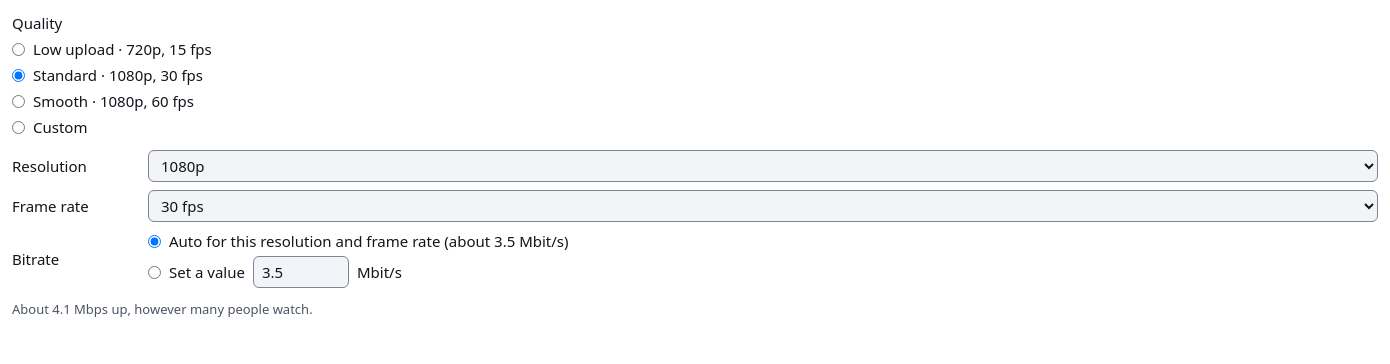
quality controls › warns for 4K and 60 fps when the cap allows them
This screenshot has width=1390, height=364.
Select "2160p (4K)" in the dropdown labelled "Resolution" at (763,166), box top-left (148, 150), bottom-right (1378, 182)
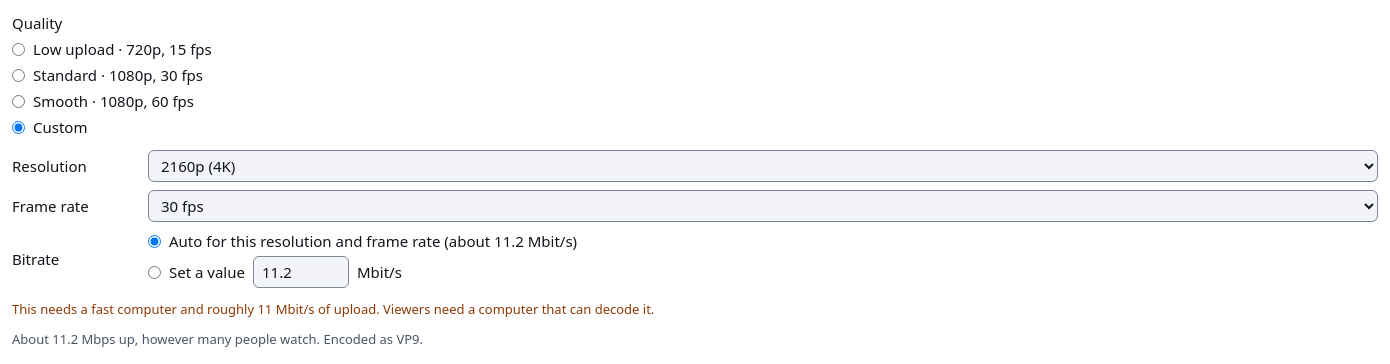
Expected: the text "needs a fast computer" is shown, top-left (12, 300), bottom-right (654, 318)
